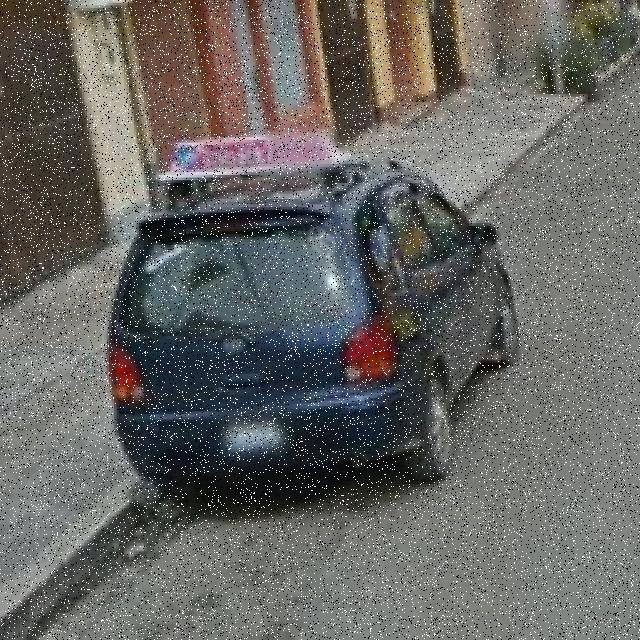cars: (114, 158, 507, 496)
